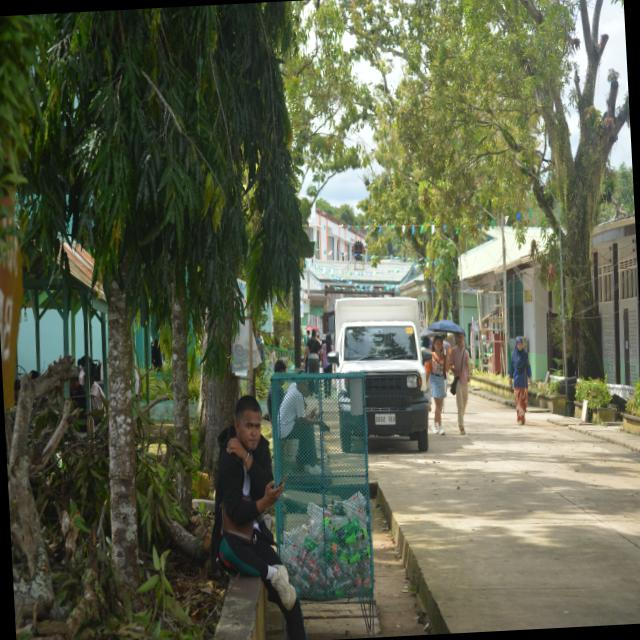person: (211, 396, 306, 639), (278, 379, 320, 475), (424, 337, 448, 435), (508, 338, 531, 425), (449, 334, 469, 434), (302, 329, 321, 373), (321, 333, 332, 373), (266, 388, 271, 420)
